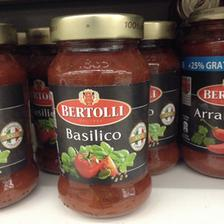Tomatensauce: (44, 9, 152, 217), (178, 7, 223, 177)
